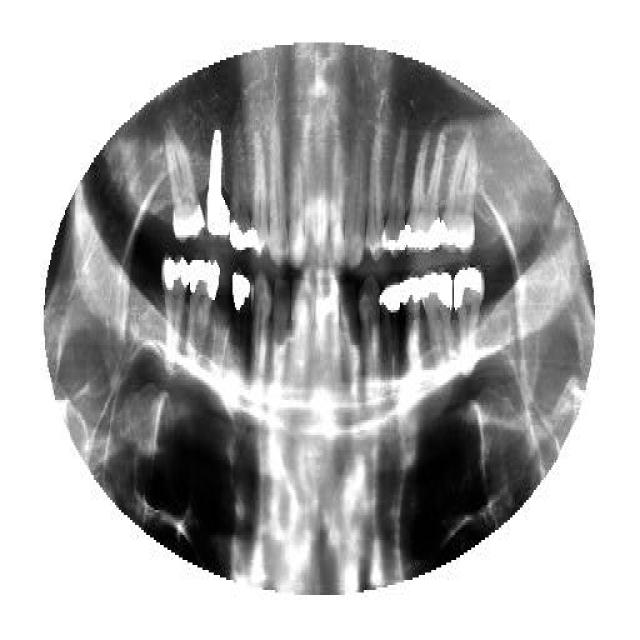Cavity: (339, 280, 360, 400)
Fillings: (407, 138, 445, 250), (420, 270, 455, 380), (382, 122, 408, 260), (226, 127, 254, 255), (186, 260, 219, 368), (453, 265, 485, 375), (380, 278, 405, 402), (160, 258, 186, 370), (400, 273, 421, 395), (230, 270, 251, 362)
Implant: (205, 125, 230, 240)
